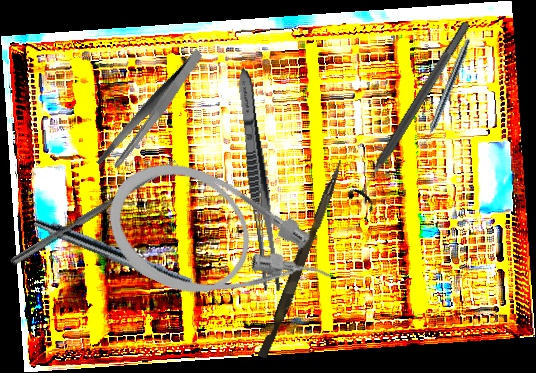Cannula: (89, 142, 348, 347)
Dressing Forceps: (76, 48, 227, 176), (232, 66, 285, 296)
Fixation Ring: (343, 13, 482, 214)
Handpiece: (30, 214, 227, 309), (419, 36, 473, 150)
Pusher: (257, 156, 345, 361)
Surgical Spoon: (9, 159, 180, 268)
